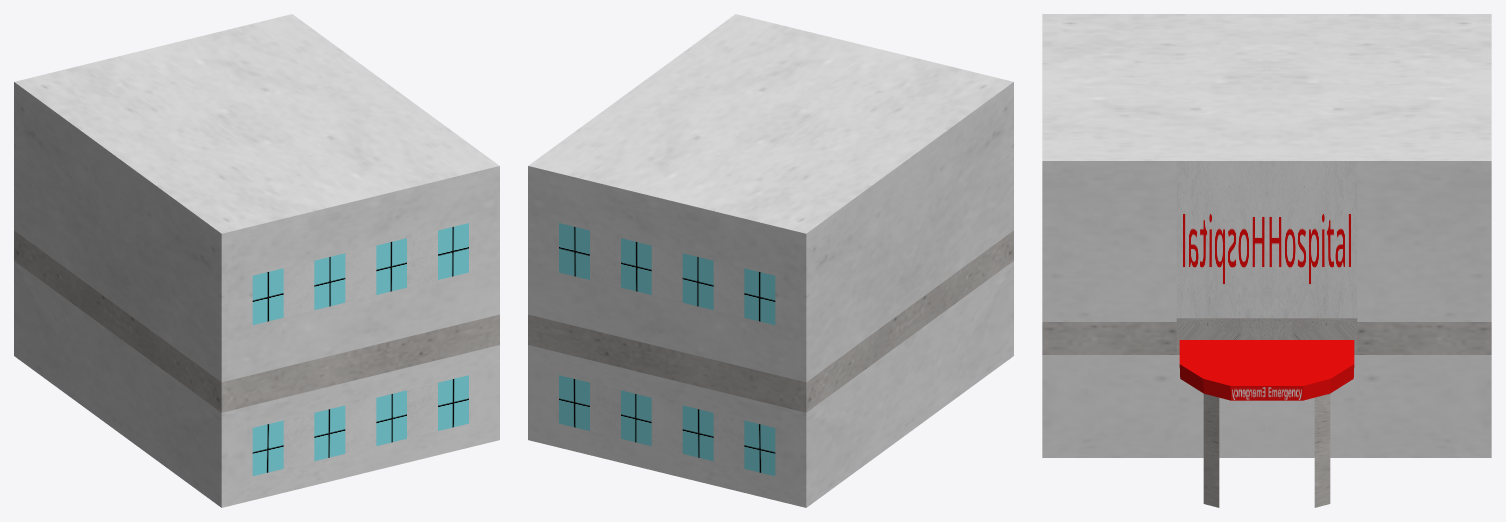
Rendered from hospital.fbx.
The picture shows the model from 3 angles, left to right: view 1: azimuth 30°, elevation 25°; view 2: azimuth 150°, elevation 25°; view 3: azimuth 270°, elevation 25°; orthographic projection. The views are drawn at different scales.
Parts seen in each view (by area): view 1: Hospital; view 2: Hospital; view 3: Hospital.
Part boxes in pixels (bbox=[...]): Hospital: bbox=[14, 14, 499, 507]; Hospital: bbox=[528, 14, 1013, 507]; Hospital: bbox=[1042, 14, 1491, 507].
Bounding box in the file's own units: 3993 × 2938 × 3934.
